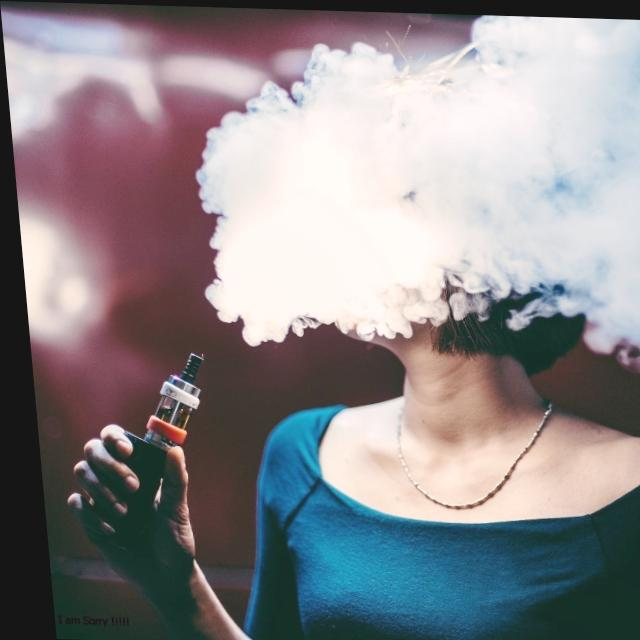vape: (69, 350, 211, 546)
